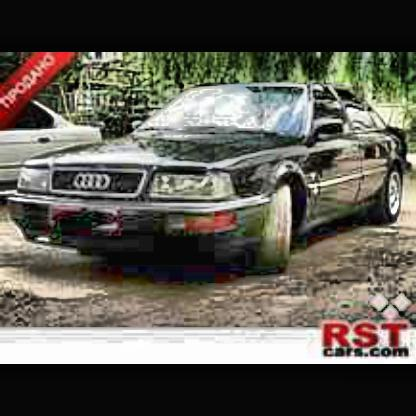Audi V8 Sedan 1994: (9, 83, 409, 278)
